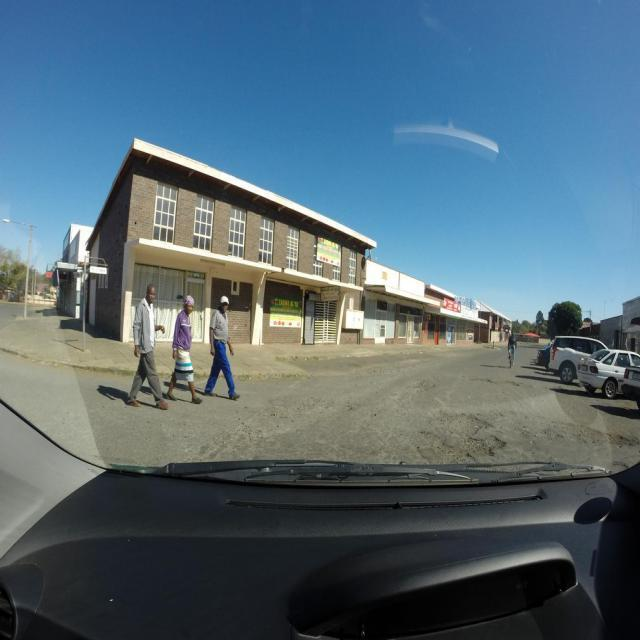pothole: (419, 413, 507, 464), (413, 380, 436, 393), (470, 379, 495, 383), (504, 382, 521, 387)
